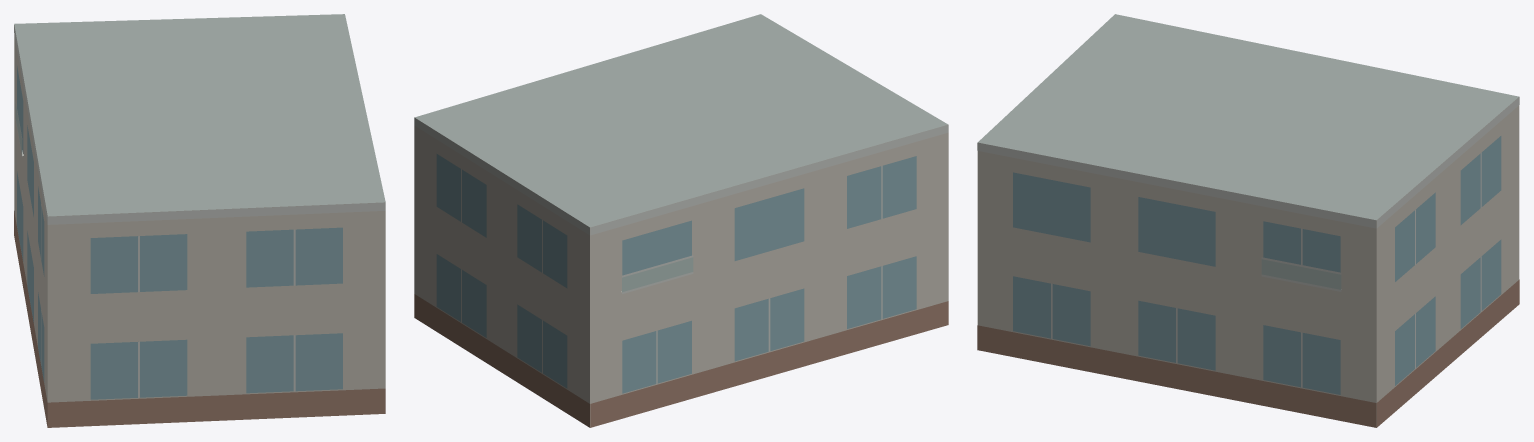
The model's file is survey-upis-32680266.glb.
3 renders of one model, left to right at view 1: azimuth 30°, elevation 25°; view 2: azimuth 150°, elevation 25°; view 3: azimuth 270°, elevation 25°, orthographic. The views are drawn at different scales.
Parts seen in each view (by area): view 1: survey-upis-32680266.tmp; view 2: survey-upis-32680266.tmp; view 3: survey-upis-32680266.tmp.
Part boxes in pixels (left/top/right/bottom): survey-upis-32680266.tmp: left=14, top=14, right=385, bottom=427; survey-upis-32680266.tmp: left=414, top=14, right=948, bottom=427; survey-upis-32680266.tmp: left=977, top=14, right=1519, bottom=427.
Size of the model in its own units: 13.01 by 6.1 by 14.44.
